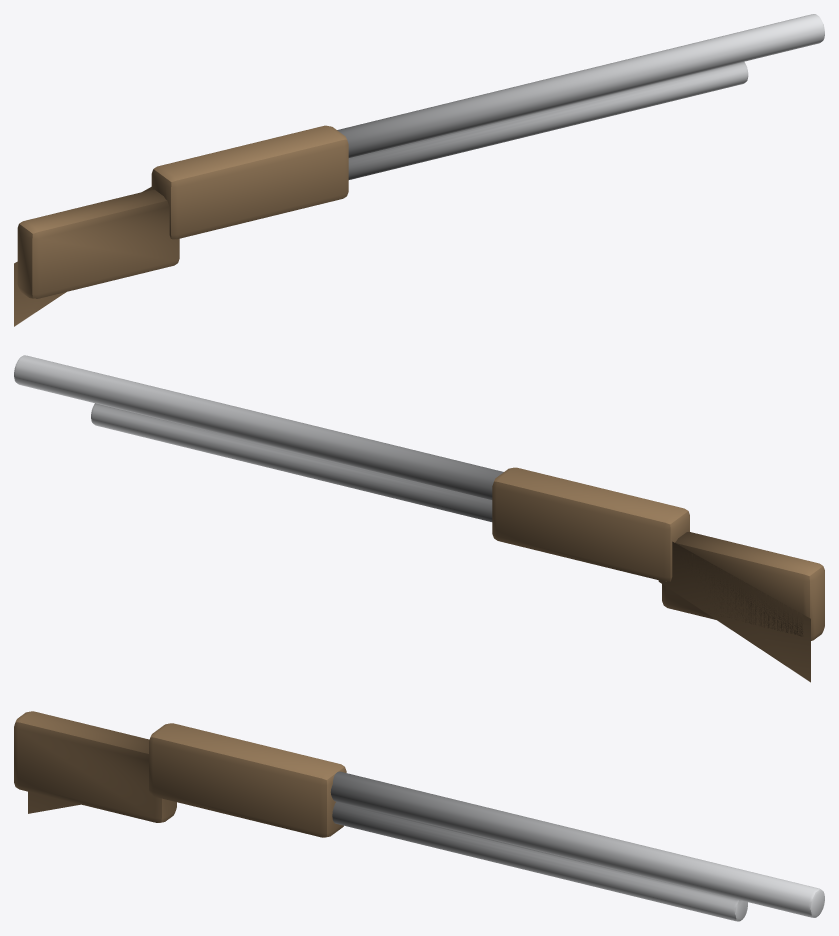
File: shotgun.glb
3 views of the same model, one above another, from view 1: azimuth 30°, elevation 25°; view 2: azimuth 150°, elevation 25°; view 3: azimuth 330°, elevation 25° (orthographic).
Parts seen in each view (by area): view 1: boat_wood2, boat_steel2; view 2: boat_wood2, boat_steel2; view 3: boat_wood2, boat_steel2.
Boxes of the visible parts, <box> form: boat_wood2: <box>14,125,348,326</box>; boat_steel2: <box>337,14,824,179</box>; boat_wood2: <box>492,467,824,682</box>; boat_steel2: <box>14,355,503,521</box>; boat_wood2: <box>14,711,346,837</box>; boat_steel2: <box>330,771,824,921</box>.
Size of the model in its own units: 1.05 by 0.16 by 0.05.
